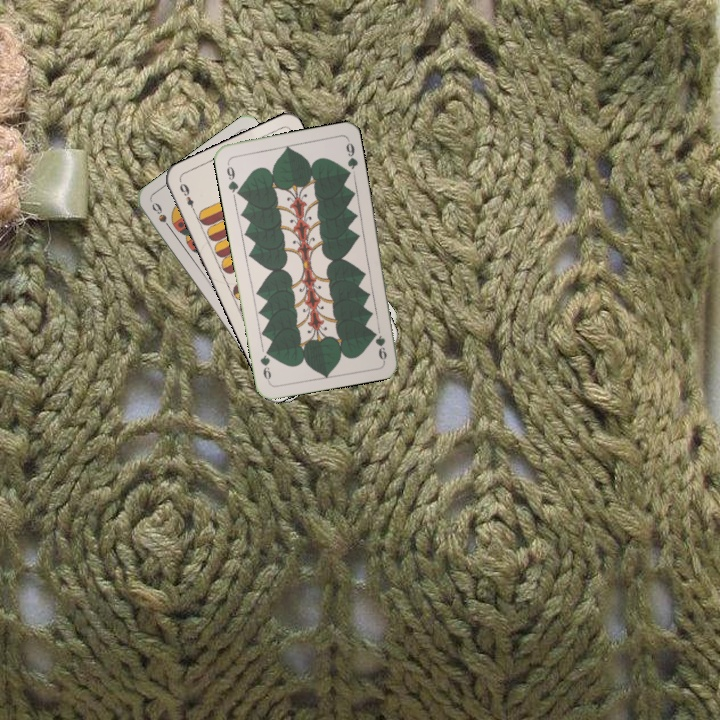E9: (175, 178, 199, 216)
G9: (222, 158, 243, 198), (373, 331, 389, 362)
S9: (148, 198, 176, 234)
